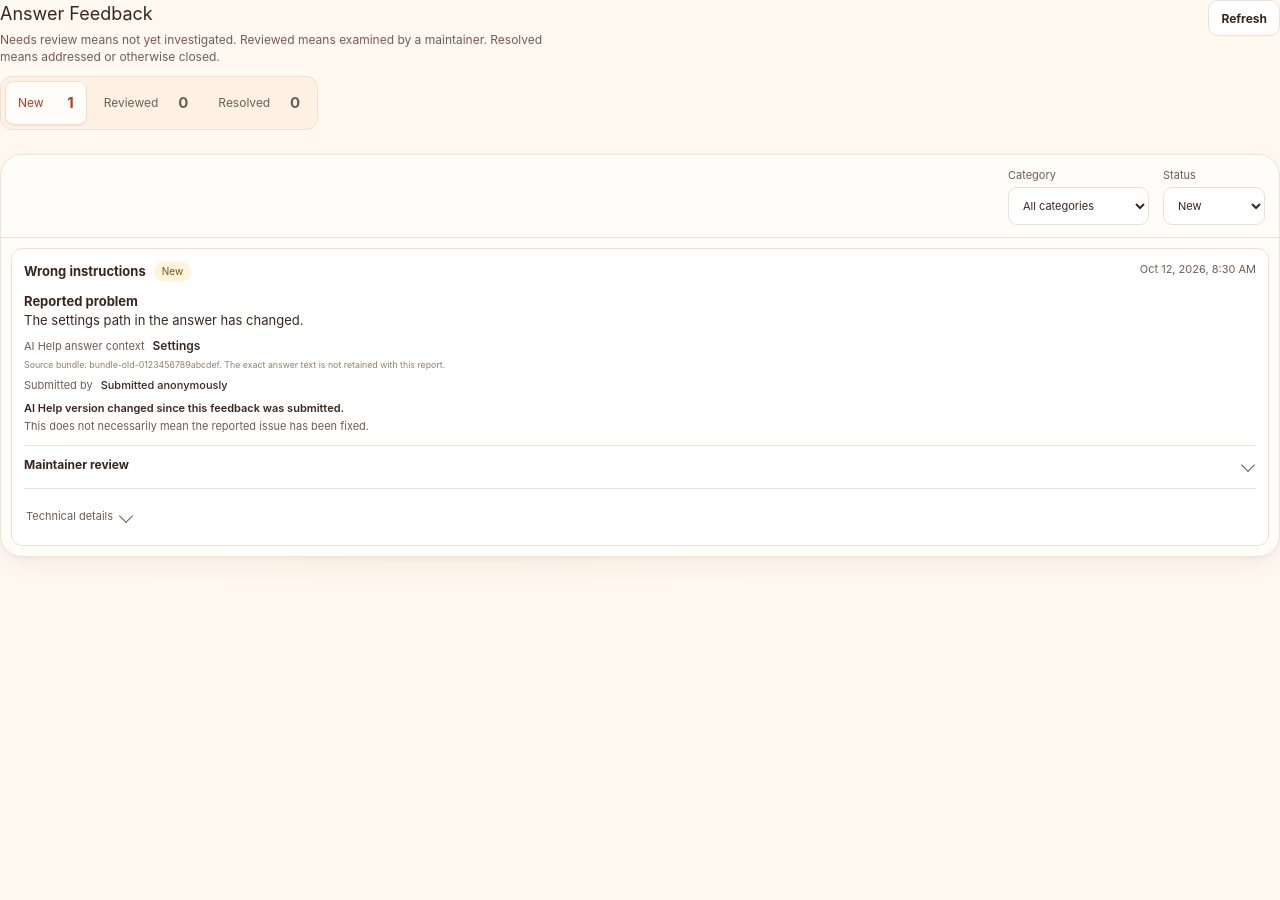
AnswerFeedbackWorkspace › creates an editable source-checked candidate from feedback and shows its link after saving
The image size is (1280, 900).
Step 1. Click the heading "Maintainer review" → coordinates (76, 464), box [24,457,129,472]
(page scrolled)
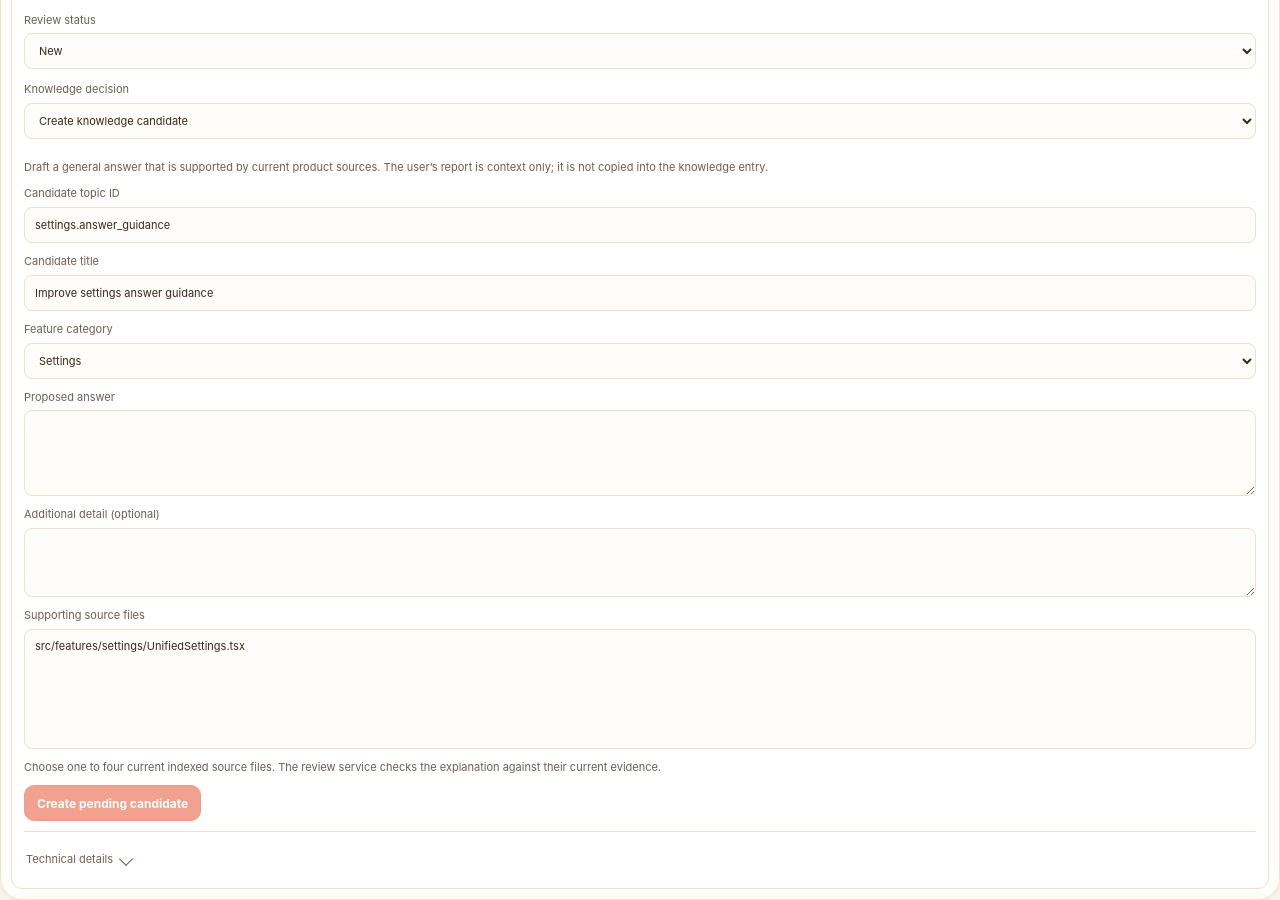
Result: the text "report is context only; it is not copied into the knowledge entry" is shown at [24,160,768,174]
Step 2. Type "Settings guidance explains the supported preference behavior clearly." into the text box labelled "Proposed answer" → coordinates (640, 453), box [24,410,1256,496]
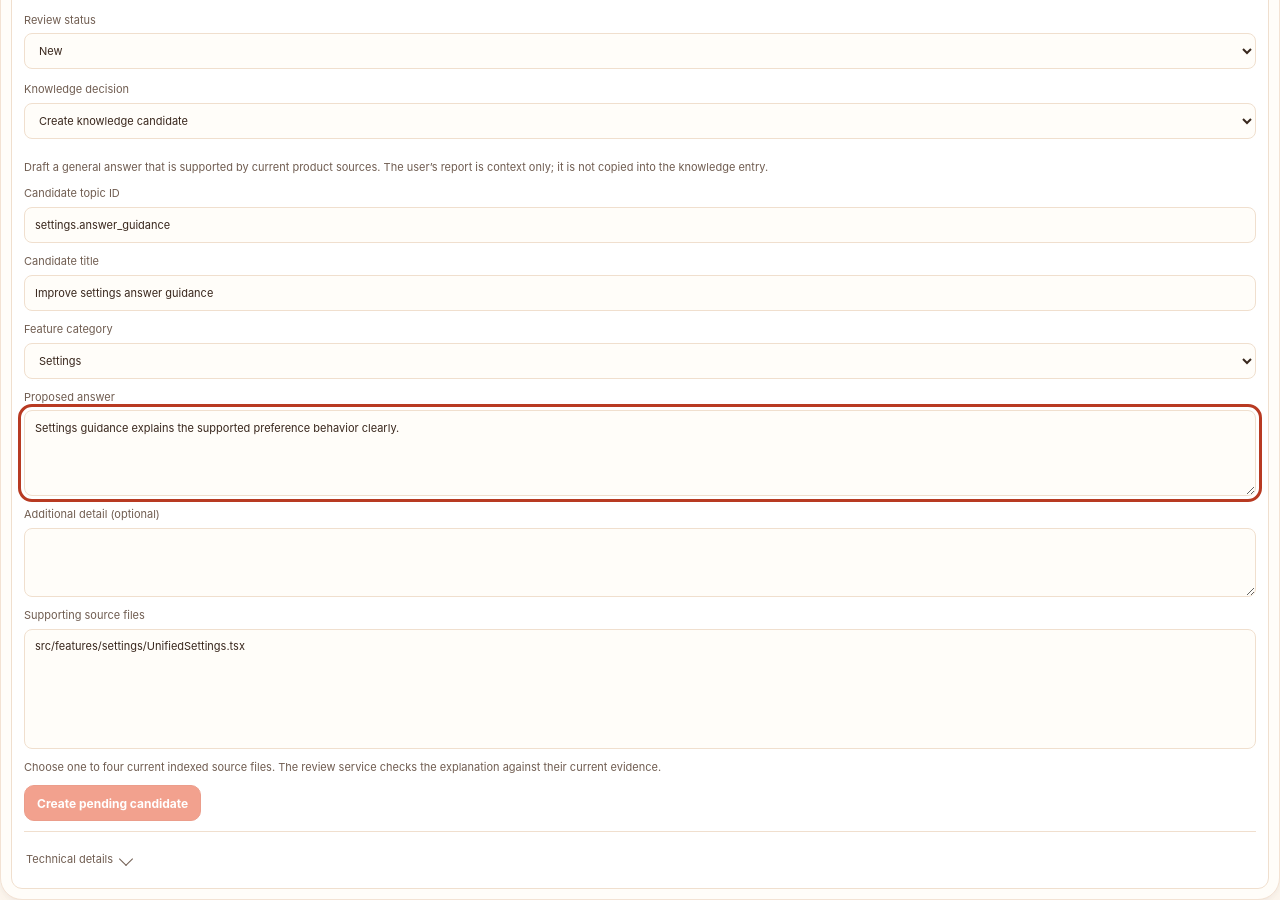
Step 3. Select "src/features/settings/UnifiedSettings.tsx" in the dropdown labelled "Supporting source files" → coordinates (640, 689), box [24,629,1256,749]
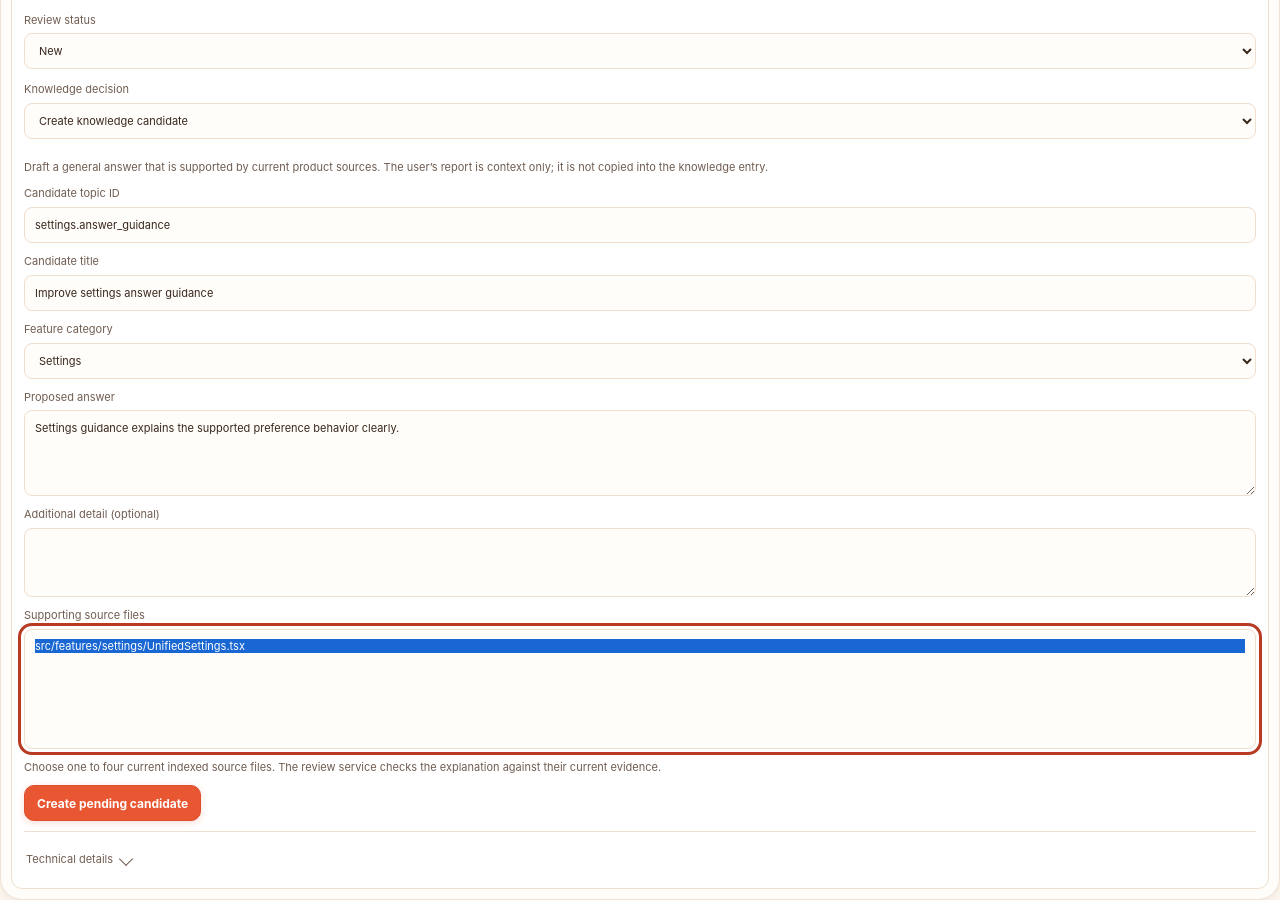
Step 4. Click the button "Create pending candidate" → coordinates (113, 803), box [24,785,201,821]
(page scrolled)
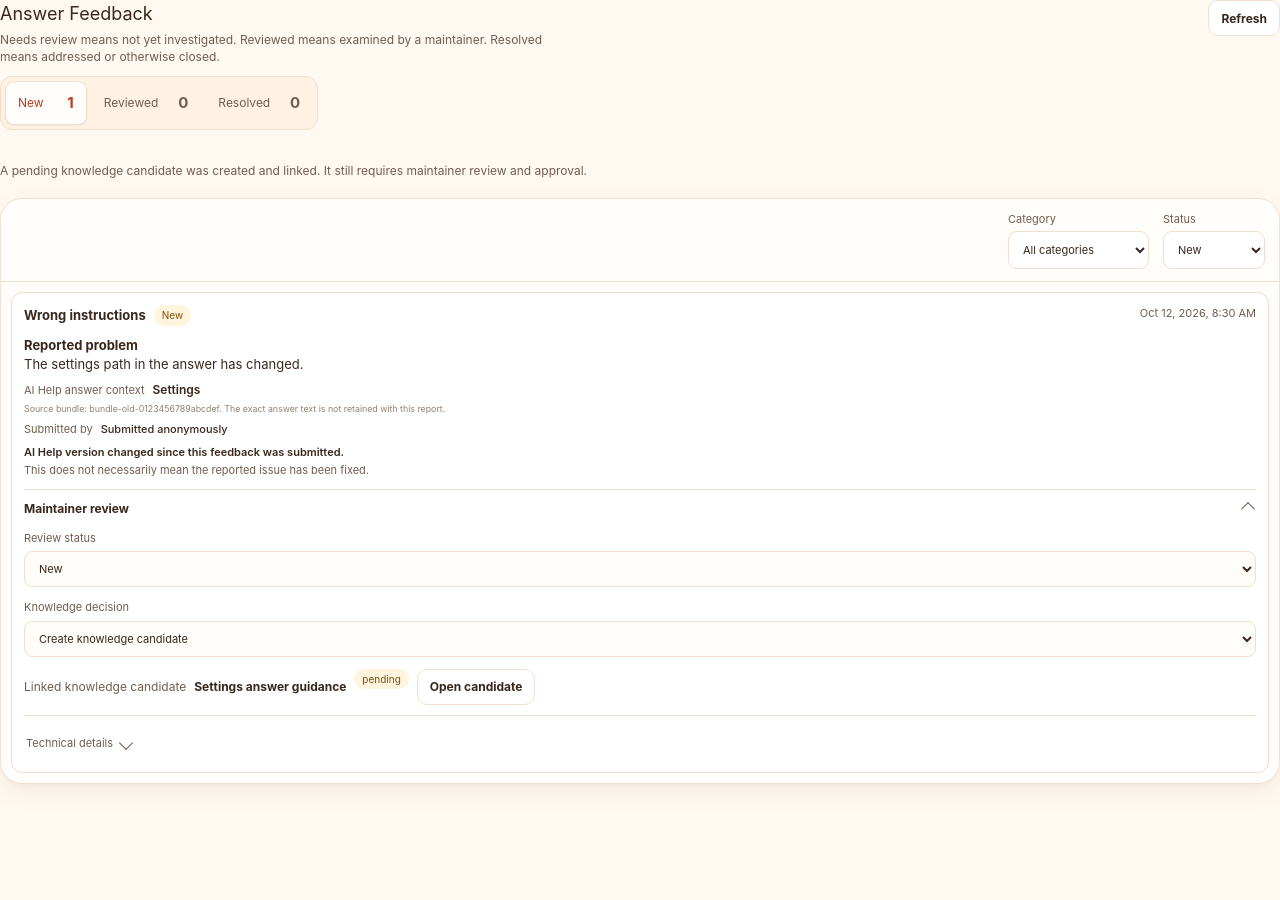
Result: the text "Settings answer guidance" is shown at [194,678,346,696]
Result: the button "Open candidate" is shown at [417,669,536,705]
Result: the button "Create pending candidate" is gone
